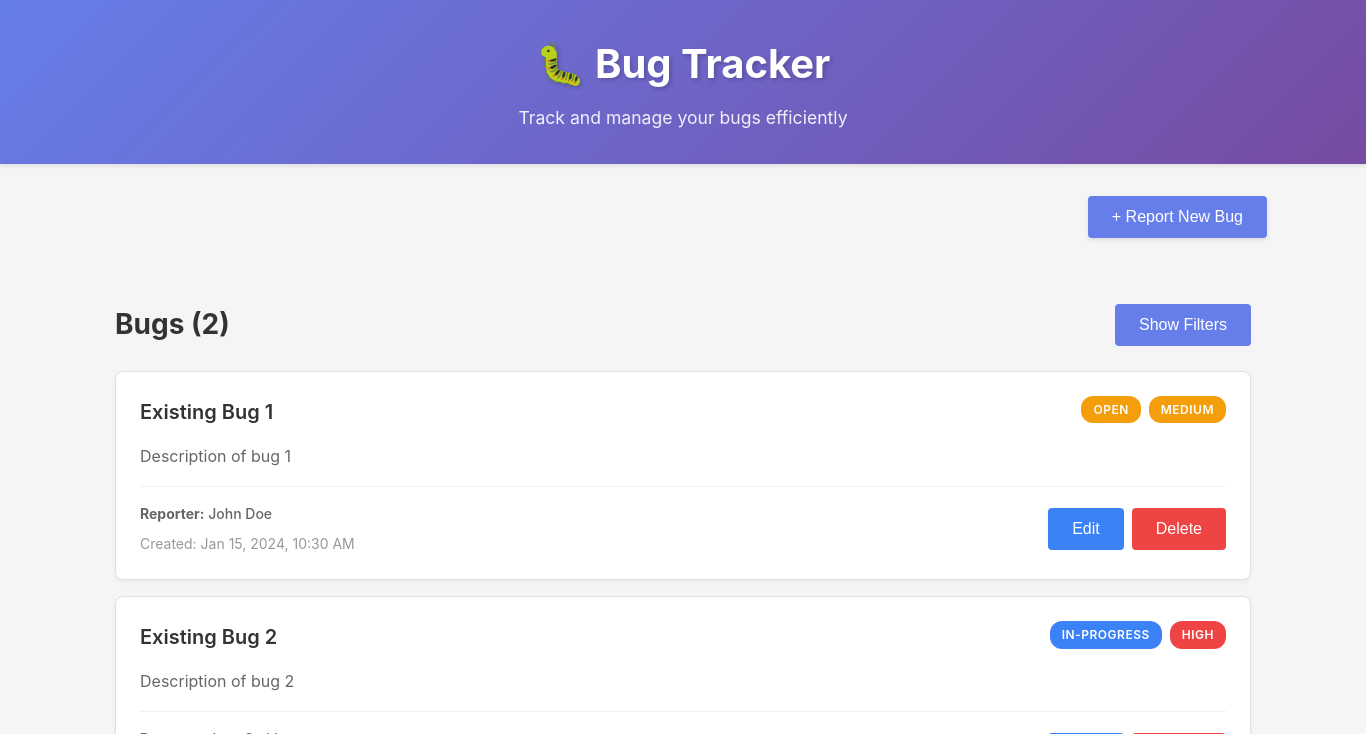
Test: Bug Workflow Integration Tests › User Flow: Update Bug Status › should show error when update fails
Expected: the heading "Bugs (2)" is shown, x1=115 y1=302 x2=230 y2=347
Edit bug
Click the button "Edit" in the row of "Jan 15, 2024, 10:30 AM".
click(1086, 529)  # box x1=1048 y1=508 x2=1124 y2=550
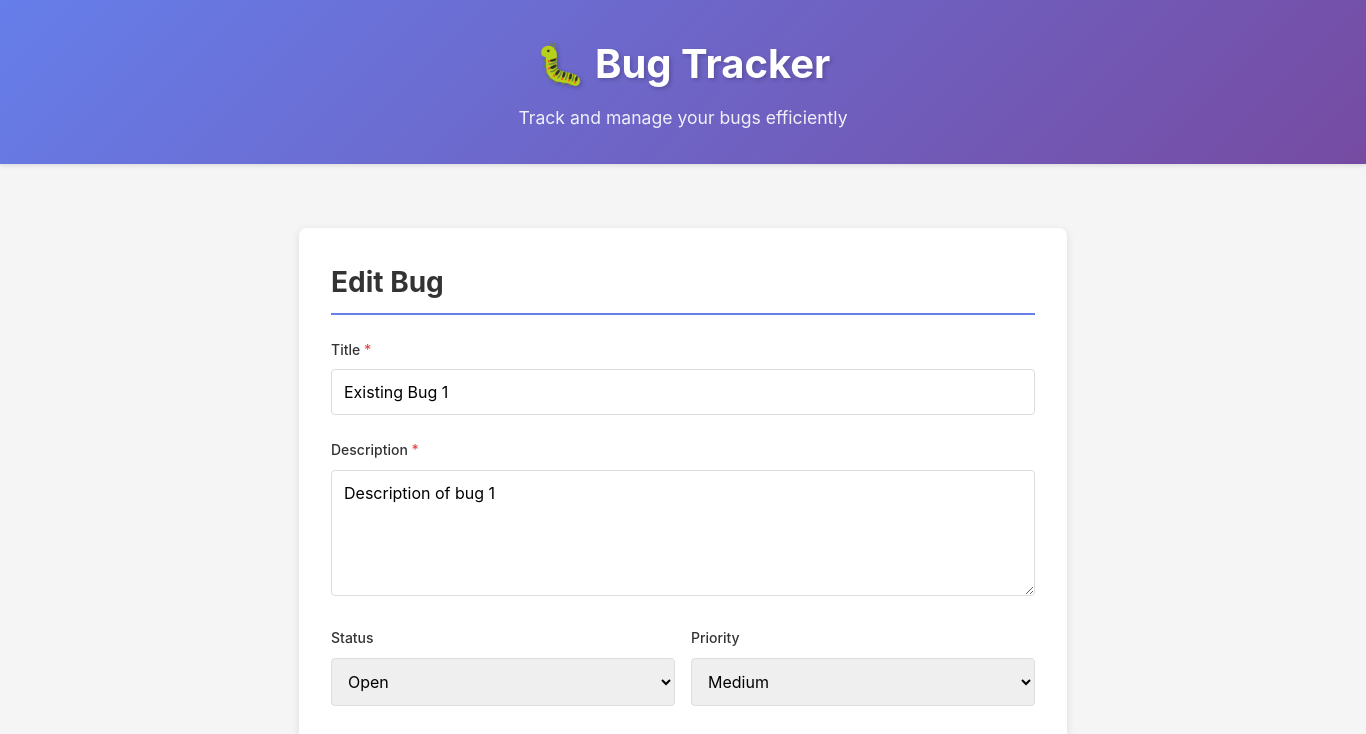
Expected: the heading "Edit Bug" is shown, x1=331 y1=260 x2=1035 y2=315
Update and submit
Select "Resolved" in the dropdown labelled "Status" at (503, 682), box x1=331 y1=658 x2=675 y2=706
(page scrolled)
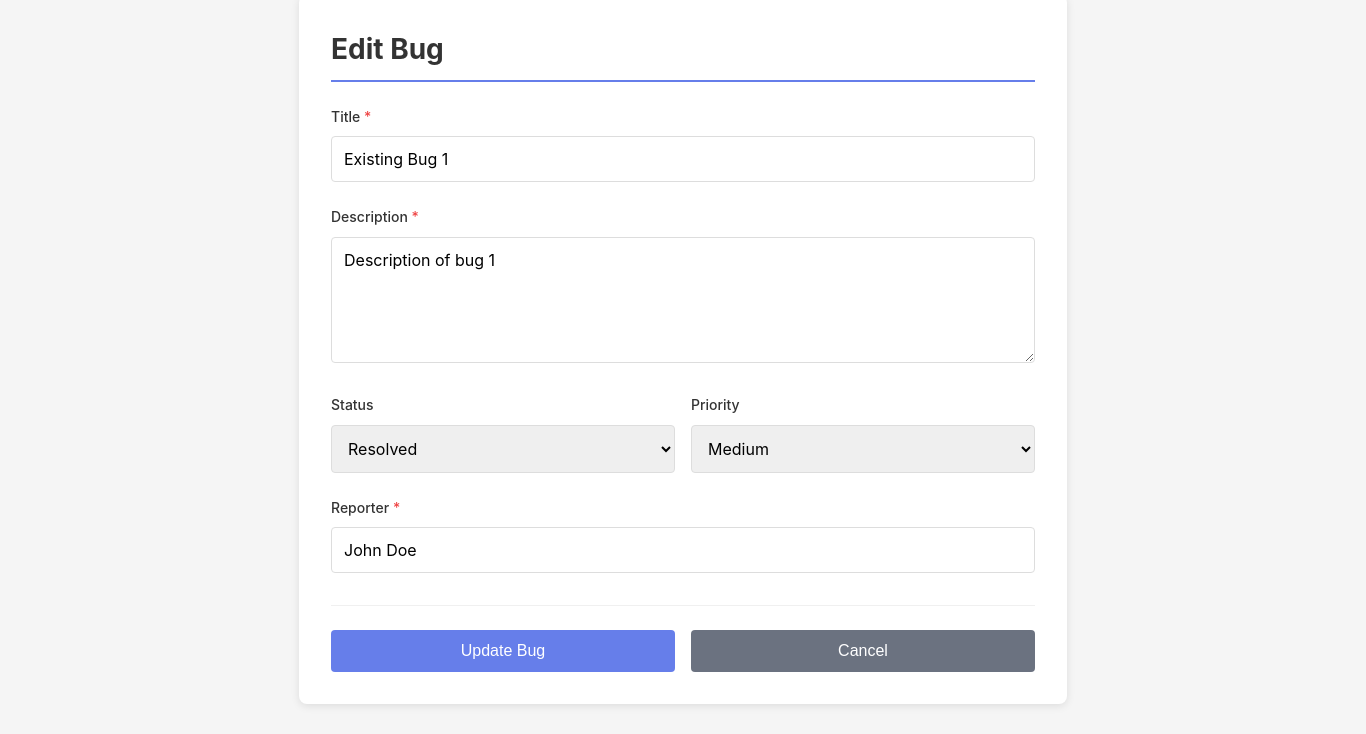
Click the button "Update Bug".
click(503, 651)  # box x1=331 y1=630 x2=675 y2=672
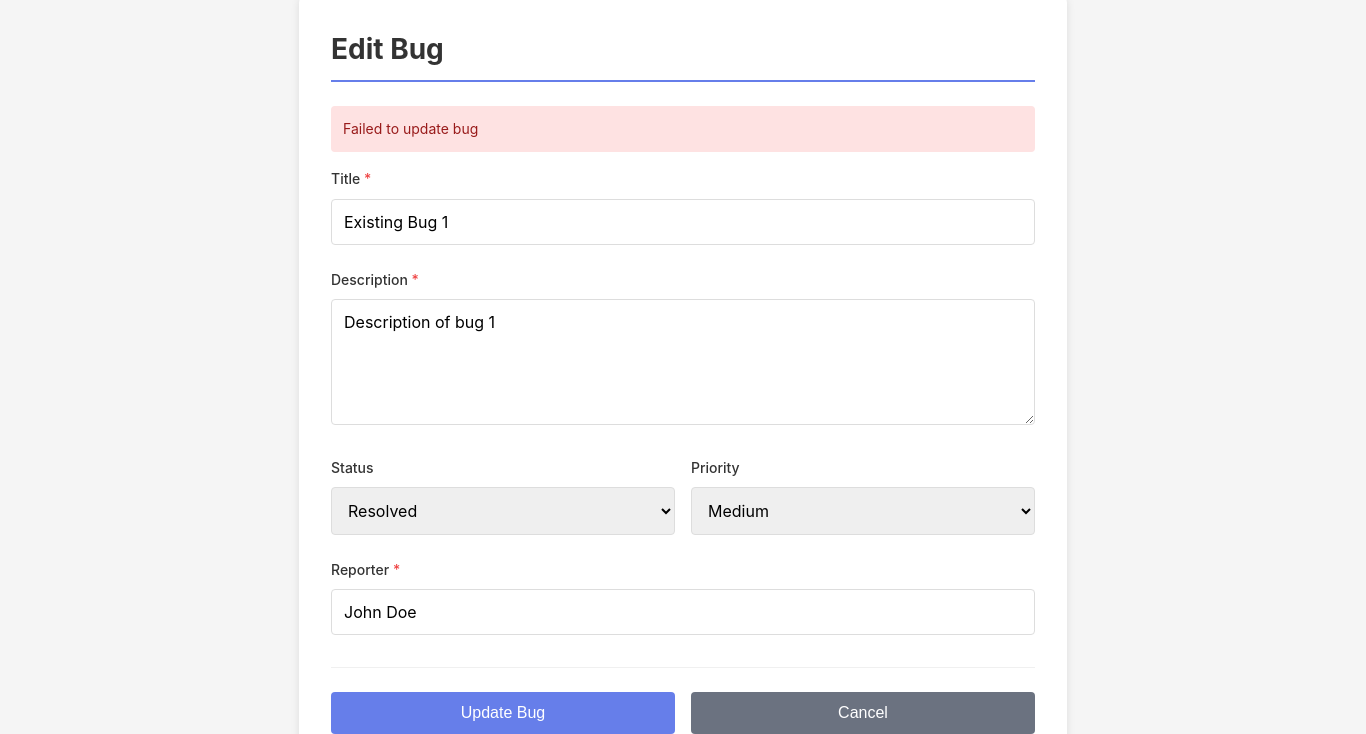
Expected: the text "Failed to update bug" is shown, x1=331 y1=106 x2=1035 y2=152
